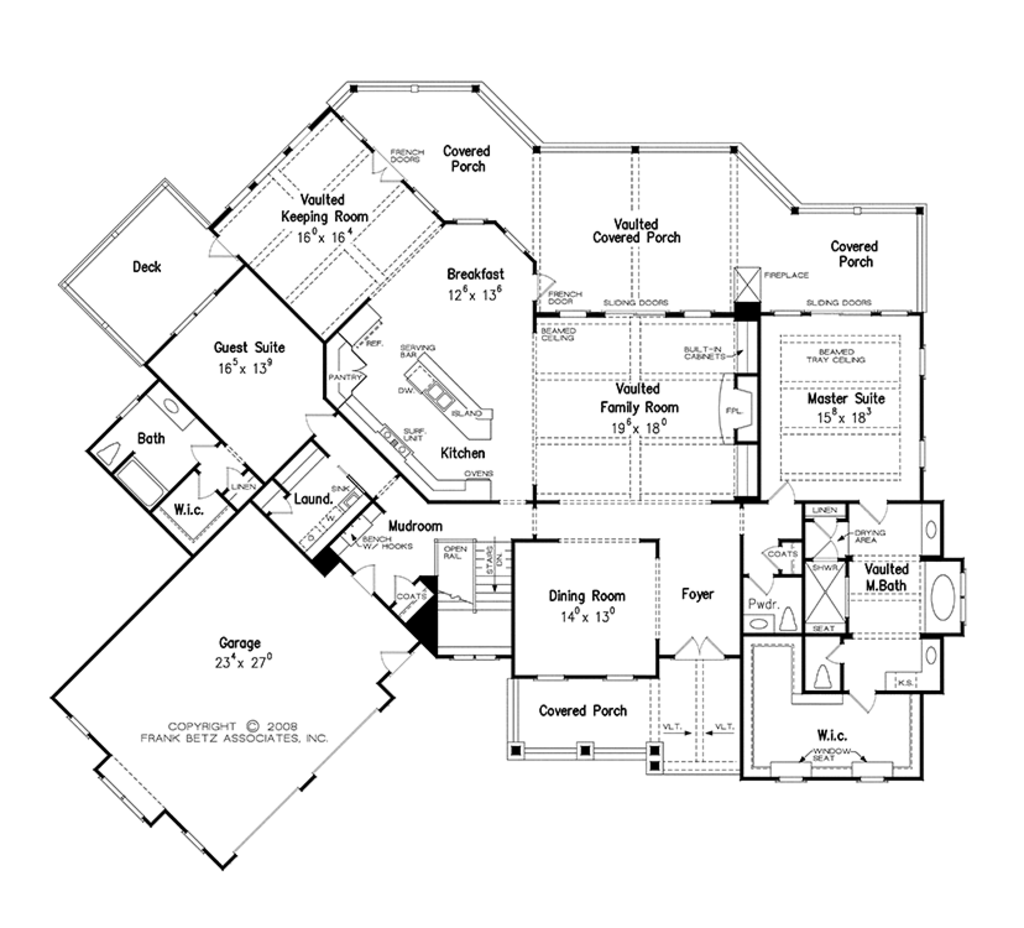door: (365, 149, 406, 195), (204, 230, 242, 266), (761, 479, 799, 513), (675, 636, 721, 663), (372, 648, 414, 676), (352, 559, 379, 599), (858, 496, 895, 525), (846, 680, 881, 709), (534, 262, 554, 306), (184, 443, 222, 465), (194, 475, 219, 502)
kitchen_bar: (396, 353, 505, 445)
large_sink: (805, 659, 836, 693), (101, 440, 129, 472), (776, 603, 796, 639)
small_sink: (154, 385, 196, 430), (918, 500, 939, 562), (925, 643, 944, 693), (751, 610, 771, 636)
stairs: (428, 533, 506, 662)
tub: (116, 456, 175, 518), (926, 562, 966, 635)
window: (168, 293, 238, 342), (178, 828, 214, 863), (66, 712, 96, 748), (596, 300, 666, 315)
